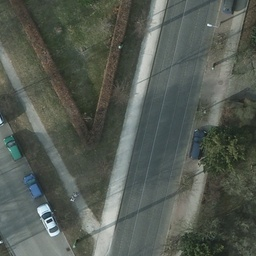car: (36, 203, 59, 238), (188, 127, 207, 161), (22, 170, 43, 199), (4, 134, 21, 160), (220, 1, 238, 15)
